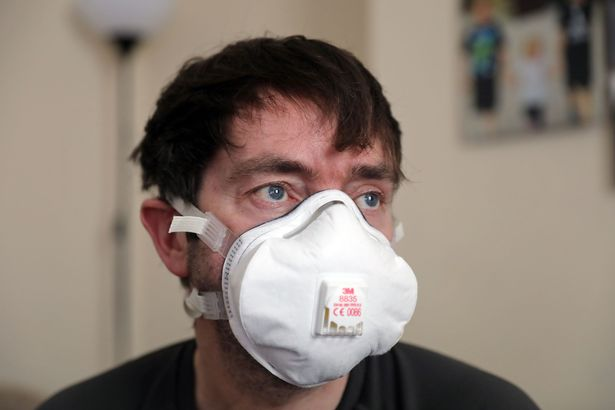n95: (223, 183, 419, 389)
